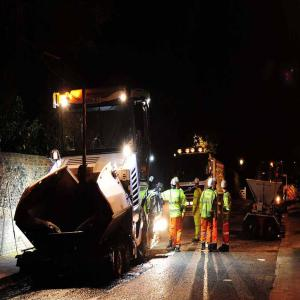white: (222, 181, 228, 193), (172, 179, 178, 190), (208, 179, 214, 190), (214, 178, 219, 189), (195, 179, 200, 189), (176, 177, 180, 187)
